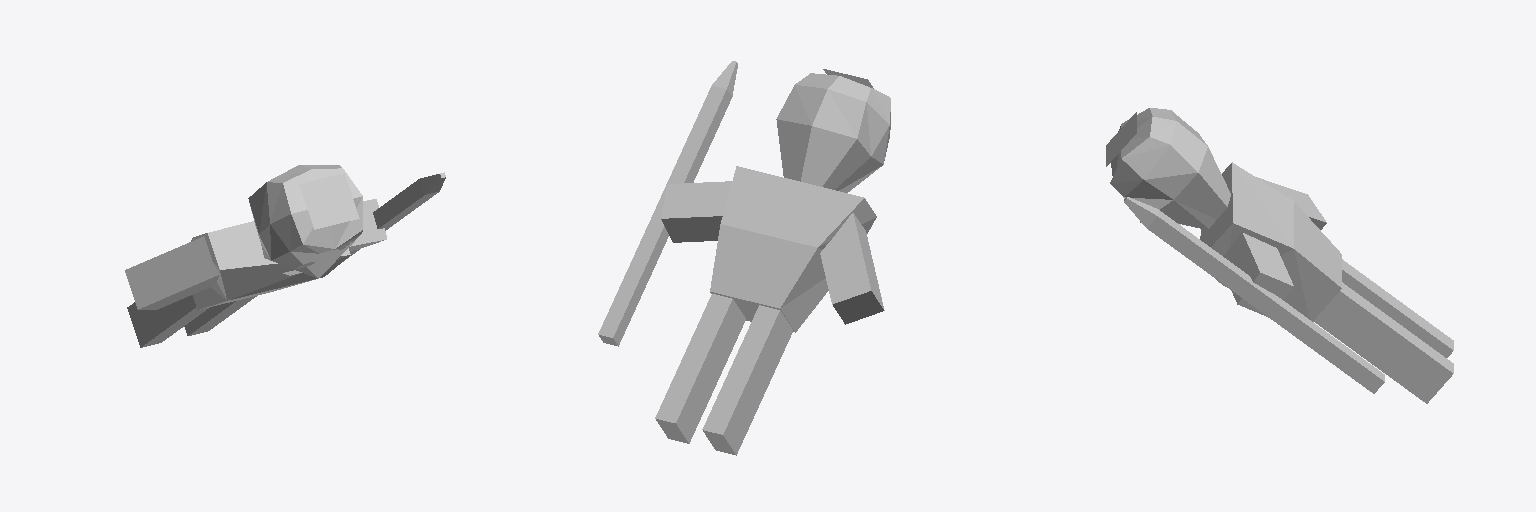
Rendered from spearman2d.obj.
The picture shows the model from 3 angles: view 1: azimuth 30°, elevation 25°; view 2: azimuth 150°, elevation 25°; view 3: azimuth 270°, elevation 25°; orthographic projection.
Visible parts, largest first — view 1: Cube, Cube.001, Cube.003, Plane.002, Cube.004, Cube.007, Cube.005, Cube.002; view 2: Cube.001, Cube, Cube.007, Cube.004, Cube.005, Cube.003, Cube.002; view 3: Cube, Cube.001, Cube.005, Cube.007, Cube.002, Cube.004, Cube.003, Plane.002.
Boxes of the visible parts, x1,y1,x2,y2 form: Cube: [248, 165, 362, 278]; Cube.001: [191, 221, 350, 309]; Cube.003: [125, 236, 218, 309]; Plane.002: [299, 173, 359, 229]; Cube.004: [127, 295, 209, 347]; Cube.007: [343, 172, 445, 261]; Cube.005: [184, 296, 256, 335]; Cube.002: [349, 199, 386, 250]; Cube.001: [710, 166, 876, 332]; Cube: [776, 73, 890, 192]; Cube.007: [598, 61, 737, 346]; Cube.004: [702, 305, 792, 455]; Cube.005: [655, 294, 745, 443]; Cube.003: [820, 213, 884, 324]; Cube.002: [661, 181, 731, 242]; Cube: [1110, 108, 1230, 229]; Cube.001: [1200, 162, 1341, 321]; Cube.005: [1313, 282, 1453, 403]; Cube.007: [1124, 197, 1384, 393]; Cube.002: [1223, 232, 1293, 317]; Cube.004: [1342, 259, 1453, 357]; Cube.003: [1256, 177, 1326, 229]; Plane.002: [1106, 112, 1136, 166].
Bounding box in the file's own units: 3.88 × 4.28 × 4.98.